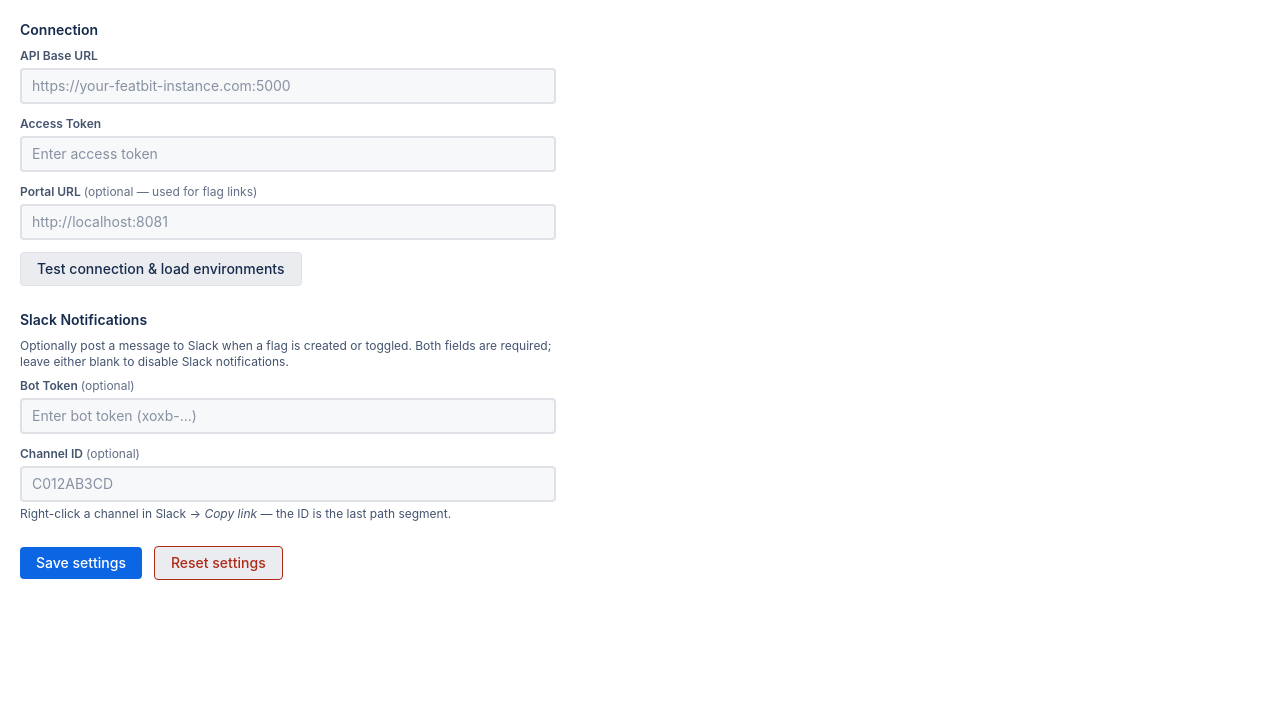
Scenario: Settings › shows a ConfirmationDialog when Reset settings is clicked
Click the button "Reset settings" at {"x": 218, "y": 563}, box [154,546,283,580]
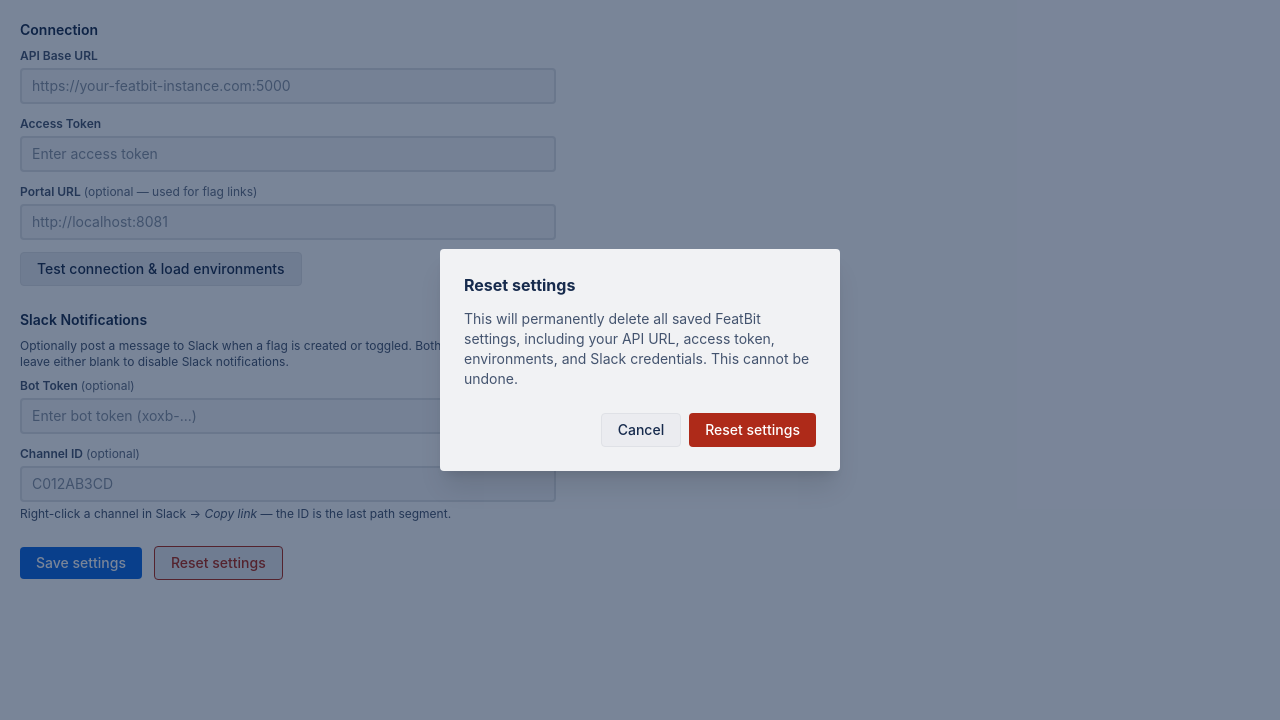
Now the element that starts with "Reset settings" is shown
